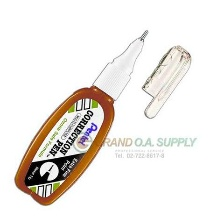correction_fluid: (13, 28, 150, 208)
